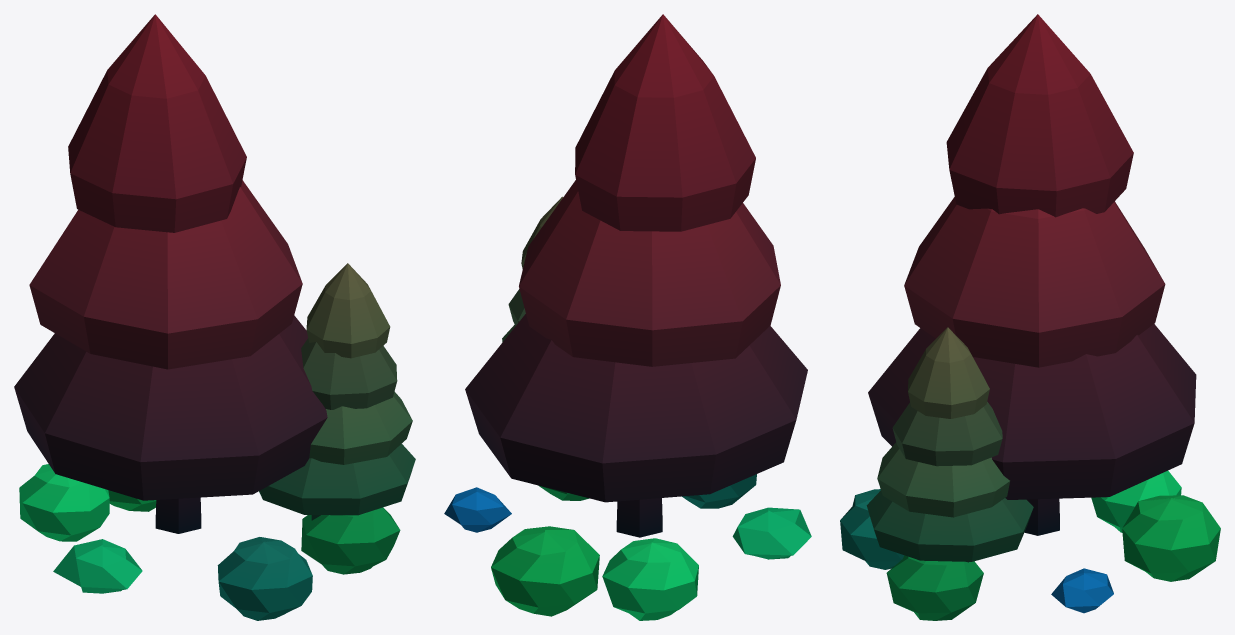
Rendered from spruce_03.glb.
The picture shows the model from 3 angles, left to right: view 1: azimuth 30°, elevation 25°; view 2: azimuth 150°, elevation 25°; view 3: azimuth 270°, elevation 25°; orthographic projection. The views are drawn at different scales.
Visible parts, largest first — view 1: spruce_03; view 2: spruce_03; view 3: spruce_03.
Boxes of the visible parts, left/top/right/bottom form: spruce_03: left=14, top=14, right=415, bottom=620; spruce_03: left=444, top=14, right=811, bottom=620; spruce_03: left=840, top=14, right=1220, bottom=620.
Size of the model in its own units: 0.8988 by 1.46 by 0.94.
